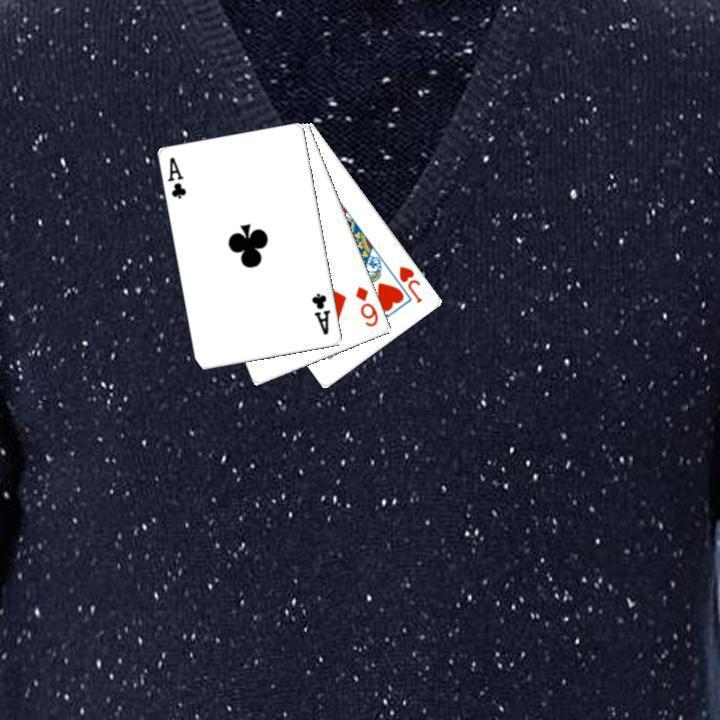6: (351, 282, 381, 329)
A: (308, 289, 333, 337), (164, 153, 189, 201)
J: (395, 262, 425, 305)
